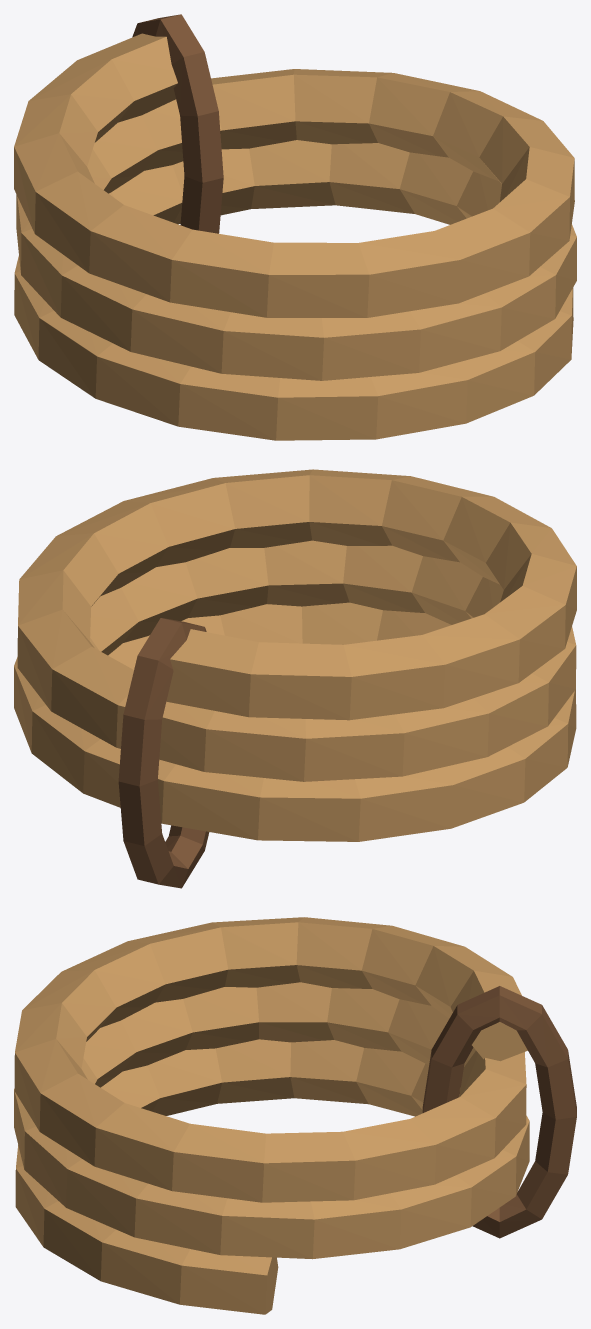
Rendered from material_rope_quality.glb.
3 renders of one model, top to bottom at view 1: azimuth 30°, elevation 25°; view 2: azimuth 150°, elevation 25°; view 3: azimuth 270°, elevation 25°, orthographic. The views are drawn at different scales.
Parts seen in each view (by area): view 1: material_rope_quality; view 2: material_rope_quality; view 3: material_rope_quality.
Boxes of the visible parts, x1,y1,x2,y2 form: material_rope_quality: [14, 14, 576, 440]; material_rope_quality: [14, 469, 576, 888]; material_rope_quality: [14, 917, 576, 1314].
Bounding box in the file's own units: 0.5425 × 0.2824 × 0.5922.
